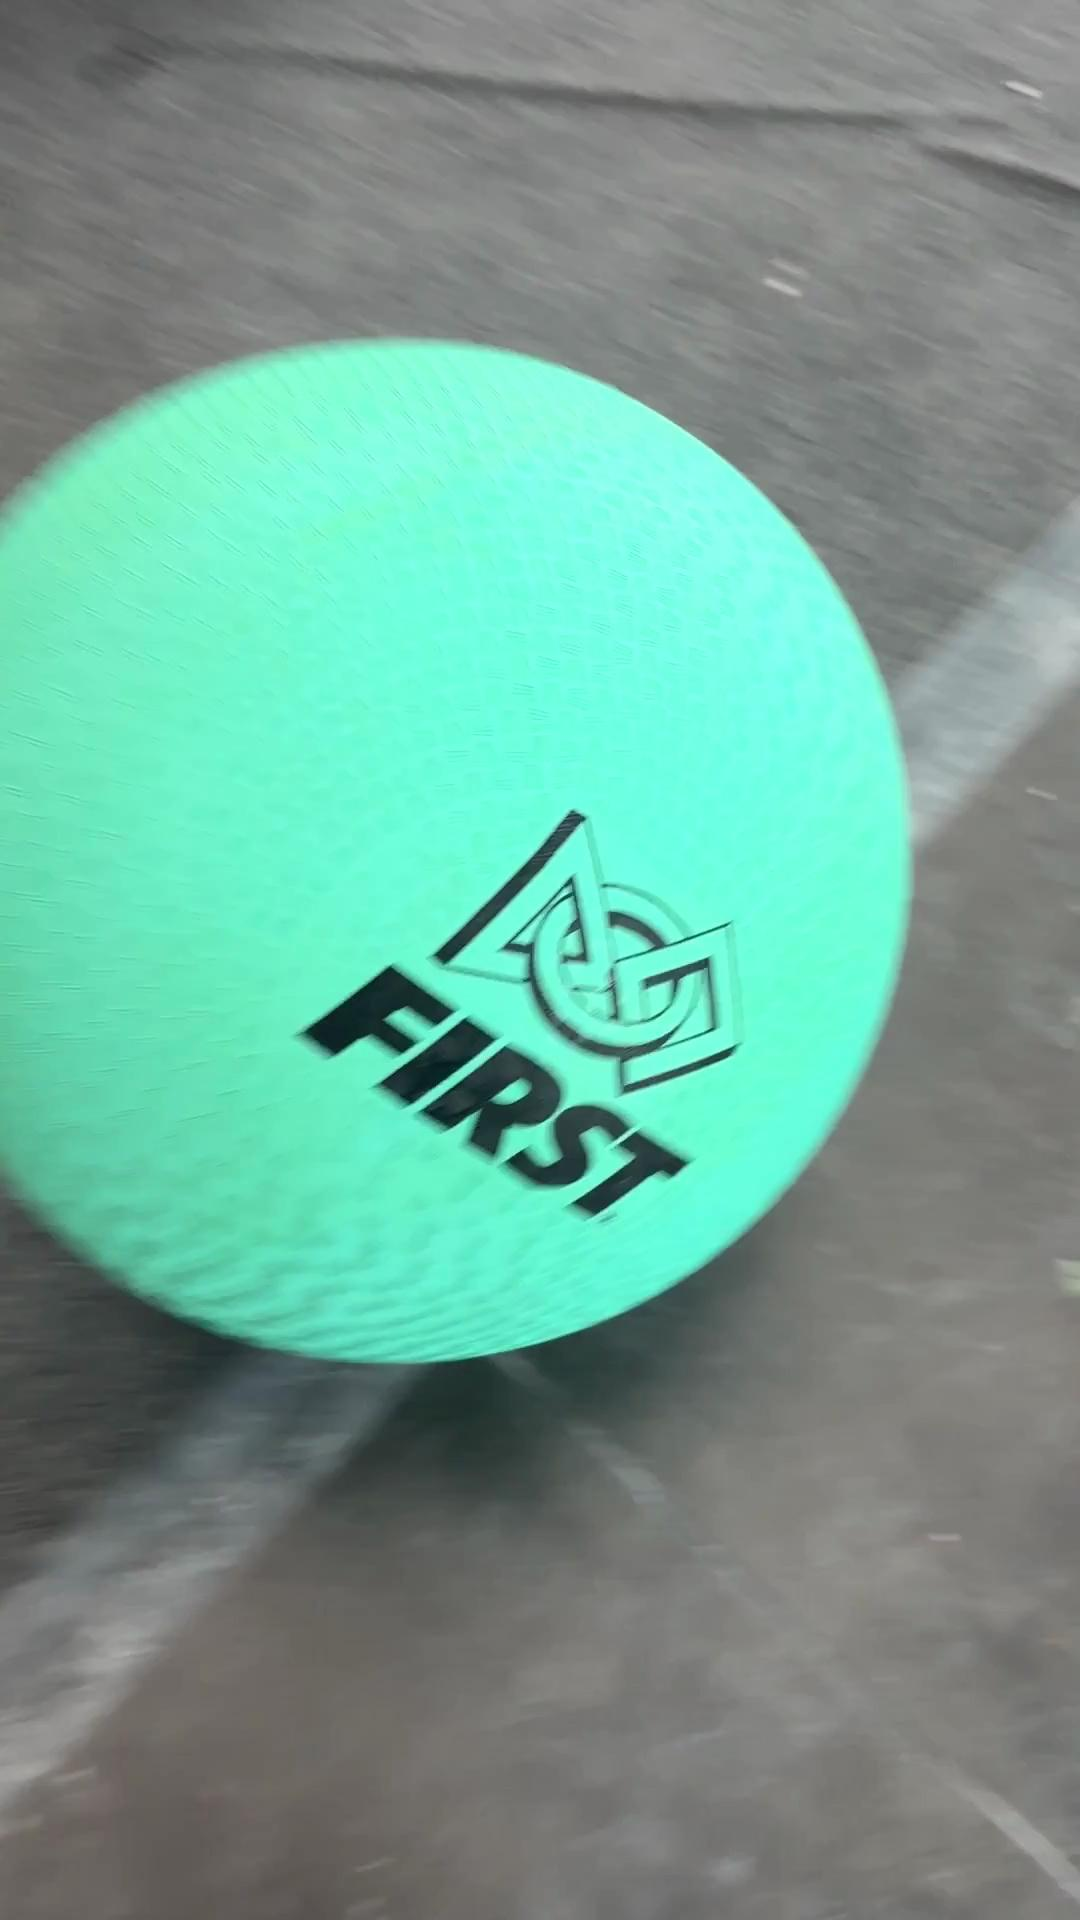ALGAE: (1, 334, 916, 1367)
